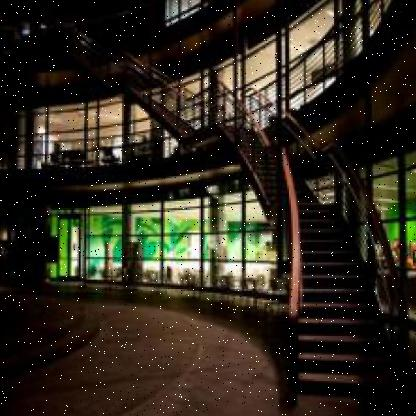stair_up: (285, 306, 398, 407)
